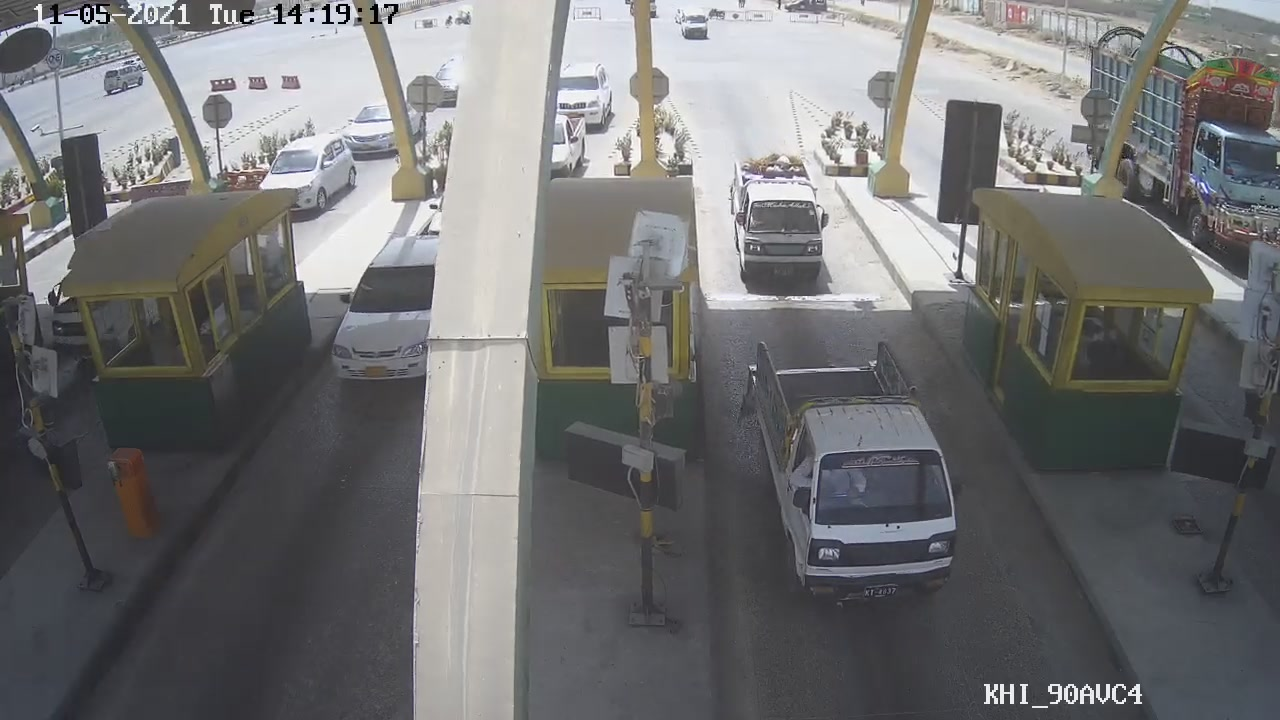F1: (729, 329, 960, 613)
